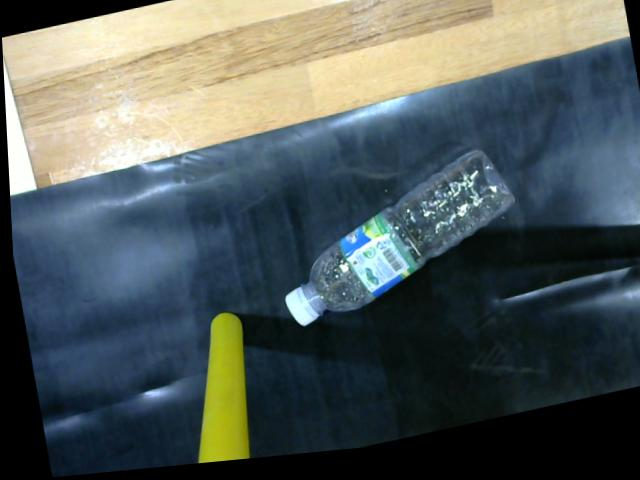bottle: (276, 148, 523, 340)
